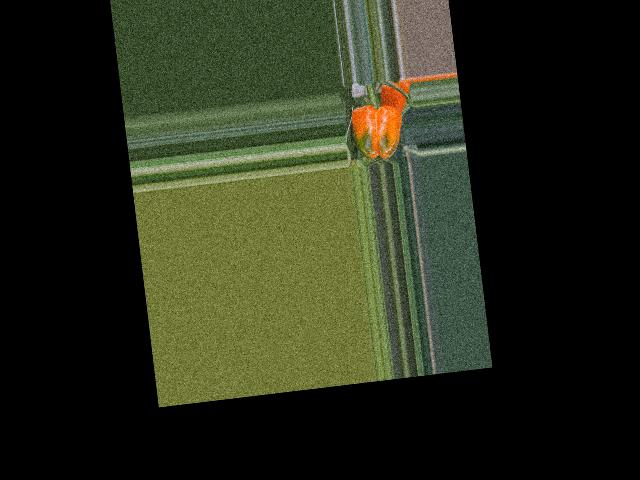bell_pepper: (342, 95, 408, 167)
